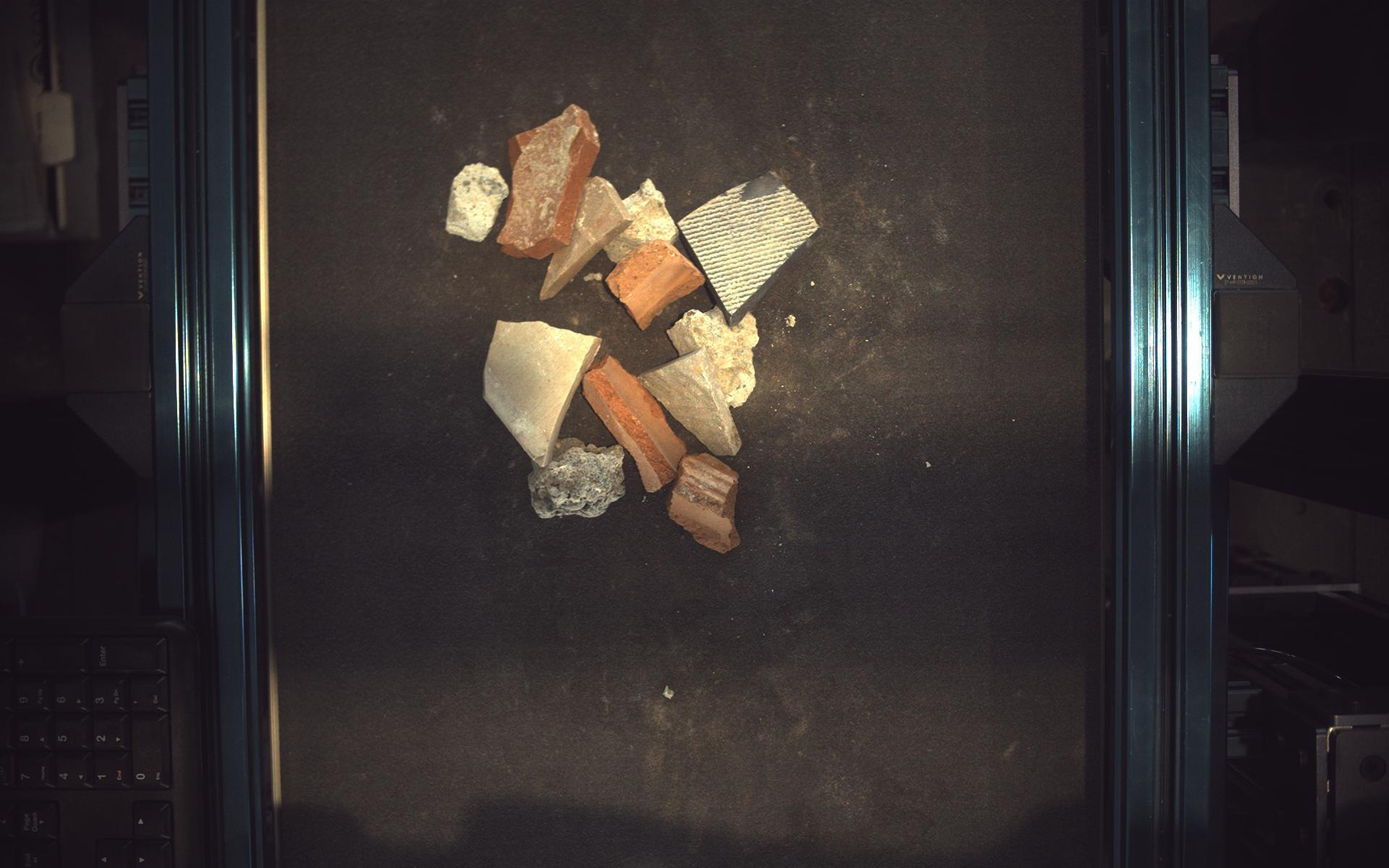brick: (496, 103, 600, 258), (584, 356, 687, 493), (606, 239, 706, 330), (669, 454, 742, 554)
concrete: (668, 307, 760, 407), (528, 438, 626, 519), (605, 178, 679, 263), (446, 162, 509, 241)
tile: (679, 171, 820, 323), (484, 320, 603, 467), (540, 176, 632, 299), (640, 349, 743, 456)
